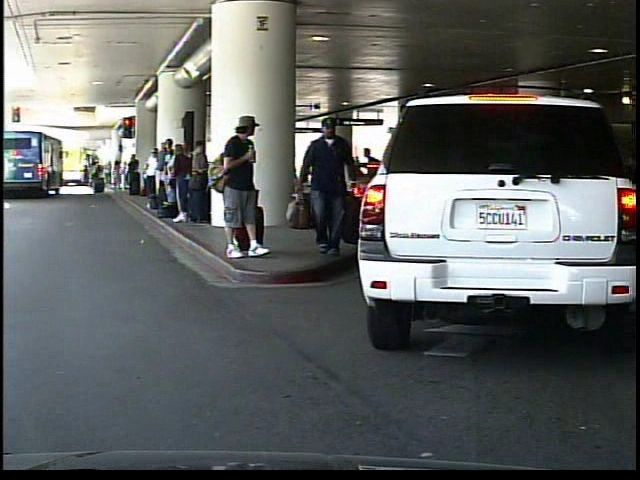person: (296, 114, 361, 259), (216, 112, 273, 261)
